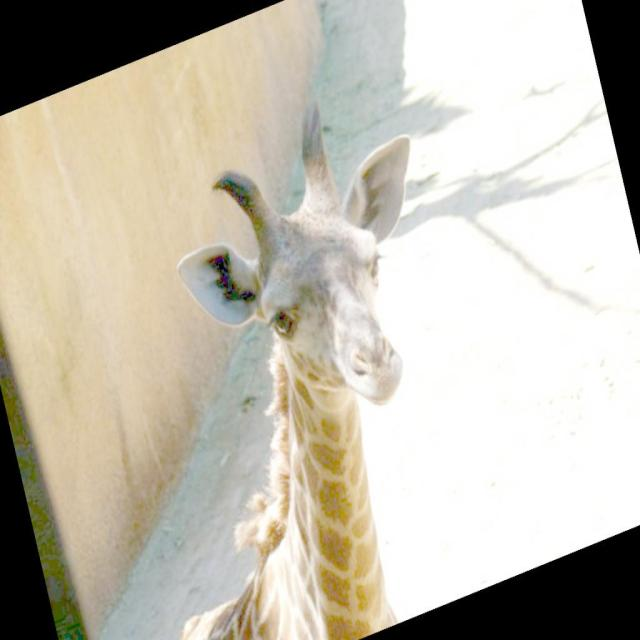Giraffe: (185, 114, 419, 640)
